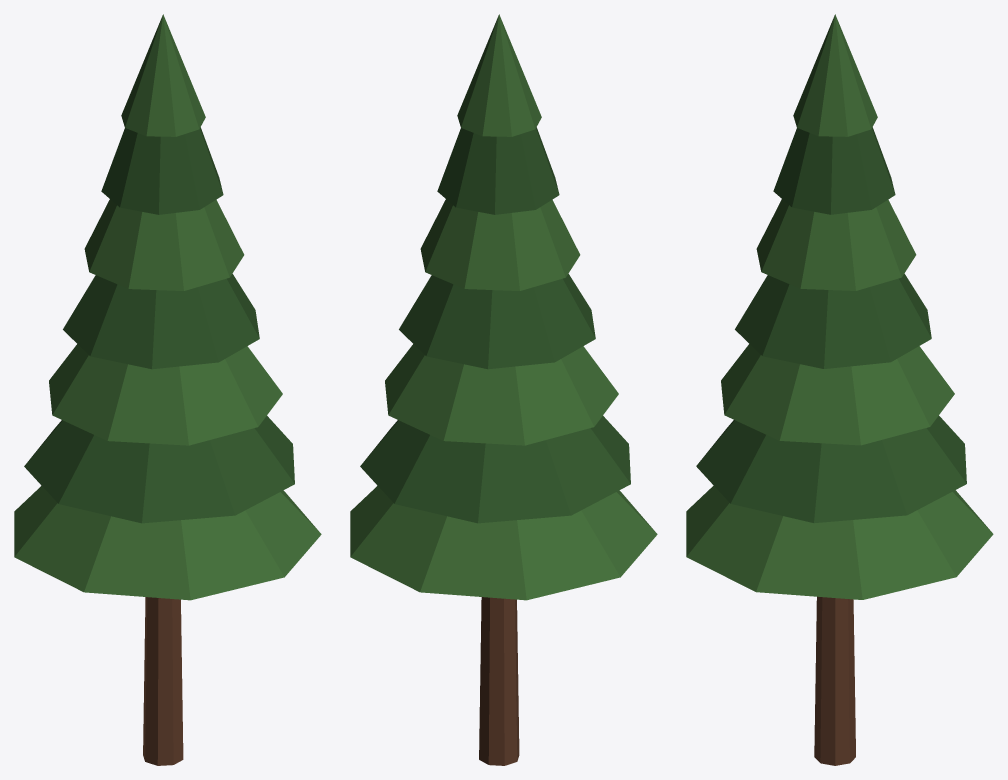
Rendered from tree_pine_medium.glb.
The picture shows the model from 3 angles, left to right: view 1: azimuth 30°, elevation 25°; view 2: azimuth 150°, elevation 25°; view 3: azimuth 270°, elevation 25°; orthographic projection.
Parts seen in each view (by area): view 1: tree_pine_medium; view 2: tree_pine_medium; view 3: tree_pine_medium.
Boxes of the visible parts, x1,y1,x2,y2 form: tree_pine_medium: (14, 14, 321, 765); tree_pine_medium: (350, 14, 657, 765); tree_pine_medium: (686, 14, 993, 765).
Size of the model in its own units: 3.62 by 9.5 by 3.56.
